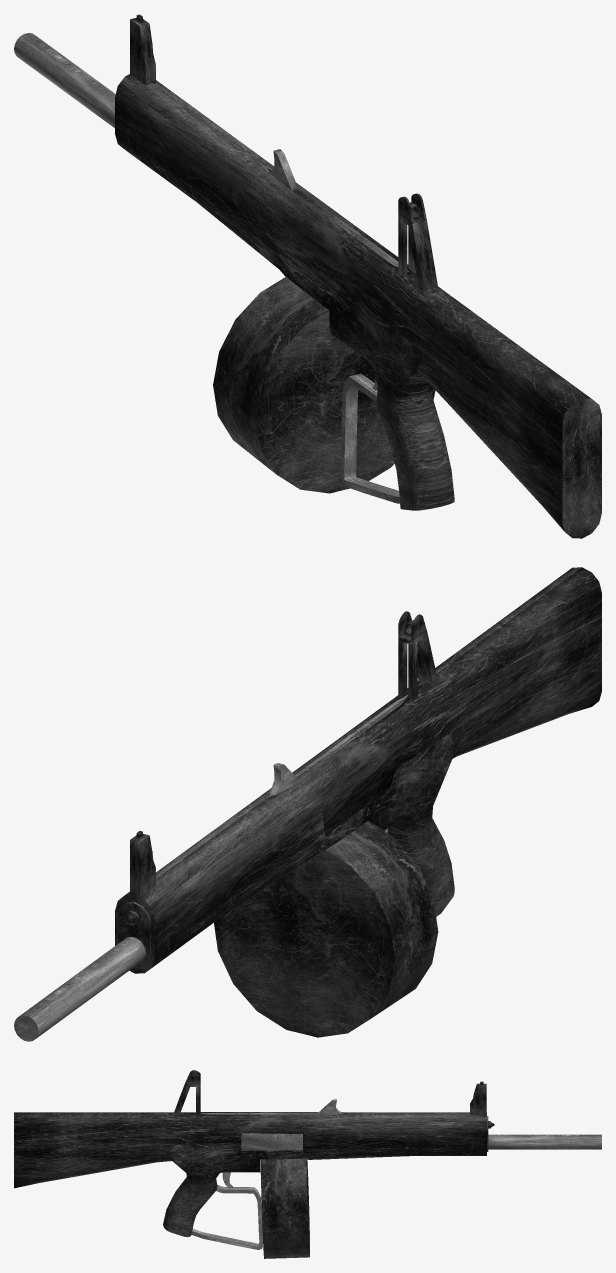
File: aa12_world.fbx
3 renders of one model, top to bottom at view 1: azimuth 30°, elevation 25°; view 2: azimuth 150°, elevation 25°; view 3: azimuth 270°, elevation 25°, orthographic. The views are drawn at different scales.
Parts seen in each view (by area): view 1: aaa12_upperbody, aa12_drummagazine, aa12_lowerbody, aa12_barrel, aa12_wiregrip, aa12_rearsight, aa12_frontsight, aa12_bolt; view 2: aaa12_upperbody, aa12_drummagazine, aa12_lowerbody, aa12_barrel, aa12_rearsight, aa12_frontsight, aa12_bolt; view 3: aaa12_upperbody, aa12_lowerbody, aa12_drummagazine, aa12_barrel, aa12_bolt, aa12_wiregrip, aa12_rearsight, aa12_frontsight.
Part boxes in pixels (x1,y1,x2,y2): aaa12_upperbody: [115, 74, 601, 538]; aa12_drummagazine: [213, 276, 435, 493]; aa12_lowerbody: [273, 261, 454, 510]; aa12_barrel: [14, 33, 115, 127]; aa12_wiregrip: [340, 373, 399, 503]; aa12_rearsight: [398, 193, 438, 291]; aa12_frontsight: [130, 14, 155, 85]; aa12_bolt: [267, 149, 409, 272]; aaa12_upperbody: [115, 567, 601, 973]; aa12_drummagazine: [214, 821, 438, 1037]; aa12_lowerbody: [309, 721, 467, 916]; aa12_barrel: [14, 936, 145, 1041]; aa12_rearsight: [398, 611, 438, 700]; aa12_frontsight: [130, 831, 155, 896]; aa12_bolt: [266, 695, 407, 798]; aaa12_upperbody: [14, 1112, 488, 1188]; aa12_lowerbody: [156, 1143, 320, 1237]; aa12_drummagazine: [260, 1158, 309, 1258]; aa12_barrel: [488, 1134, 601, 1149]; aa12_bolt: [200, 1099, 343, 1150]; aa12_wiregrip: [191, 1185, 262, 1249]; aa12_rearsight: [174, 1070, 200, 1116]; aa12_frontsight: [470, 1081, 486, 1115].
Size of the model in its own units: 10.26 by 18.45 by 54.28.
Materials: 1 (1 with a texture image).
